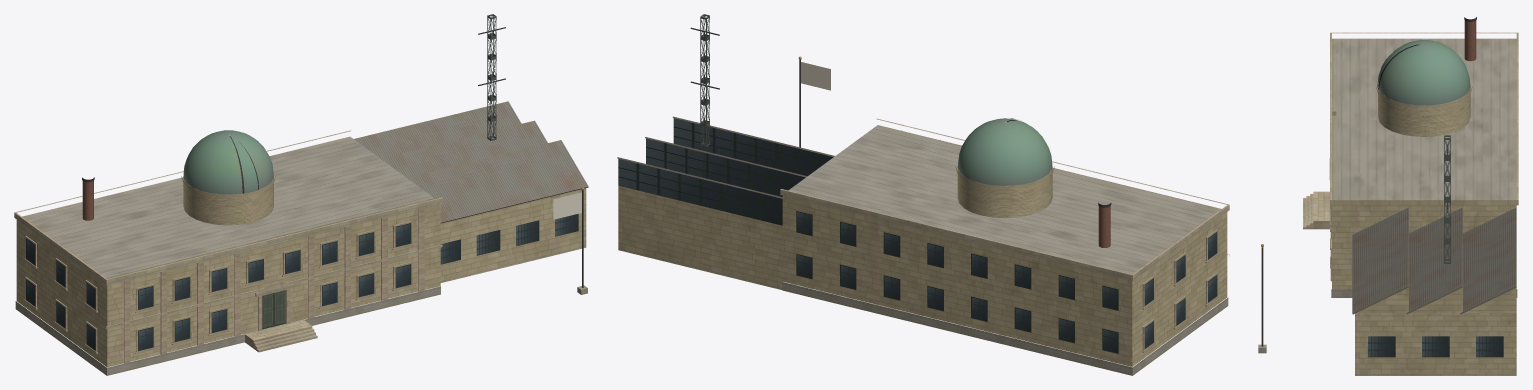
The model's file is researchCenter.glb.
3 renders of one model, left to right at view 1: azimuth 30°, elevation 25°; view 2: azimuth 150°, elevation 25°; view 3: azimuth 270°, elevation 25°, orthographic. The views are drawn at different scales.
Visible parts, largest first — view 1: pavillon, atelier, coupole, volet_coupole, drapeau; view 2: pavillon, atelier, coupole, drapeau; view 3: pavillon, atelier, coupole, hampe.
Part boxes in pixels (bbox=[...]): pavillon: bbox=[14, 130, 442, 375]; atelier: bbox=[354, 14, 588, 282]; coupole: bbox=[183, 130, 273, 194]; volet_coupole: bbox=[229, 134, 258, 193]; drapeau: bbox=[553, 192, 581, 219]; pavillon: bbox=[780, 118, 1229, 375]; atelier: bbox=[617, 14, 834, 289]; coupole: bbox=[957, 118, 1052, 185]; drapeau: bbox=[801, 62, 830, 90]; pavillon: bbox=[1303, 17, 1518, 297]; atelier: bbox=[1352, 135, 1516, 375]; coupole: bbox=[1378, 40, 1470, 105]; hampe: bbox=[1258, 244, 1266, 353].
Bounding box in the file's own units: 50.25 × 20.5 × 22.5.
Materials: 14 (12 with a texture image).
